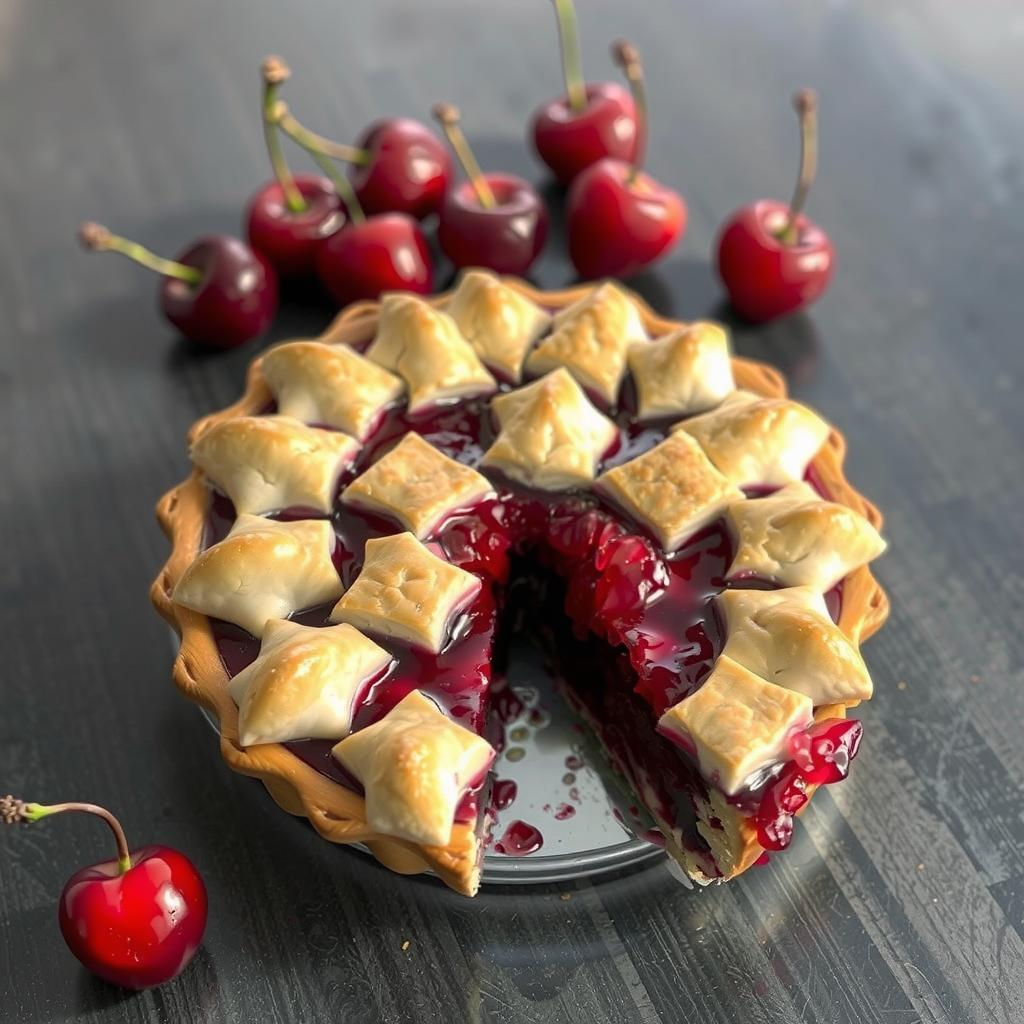pie: (133, 267, 901, 924)
